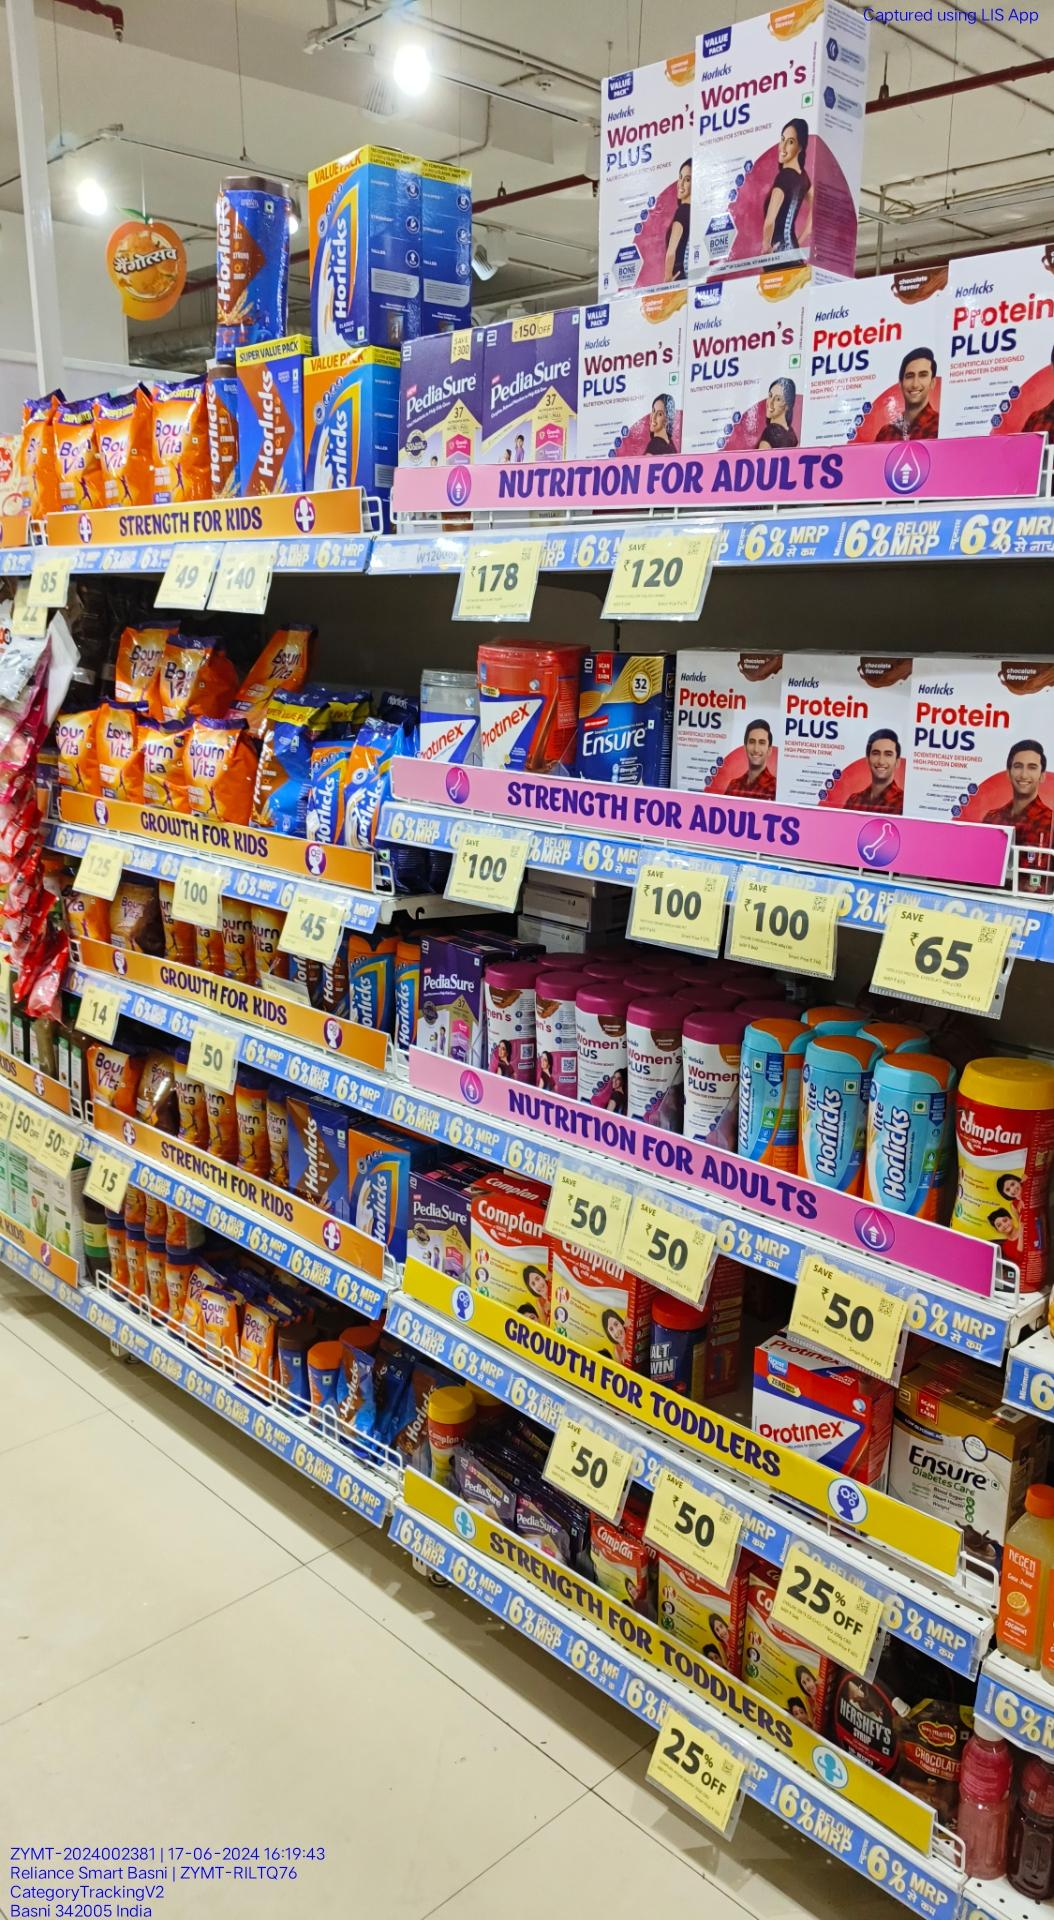BOURN_VITA_1_KG_POUCH: (152, 379, 209, 503), (100, 385, 149, 503)
BOURN_VITA_750_G_POUCH: (187, 719, 247, 822), (136, 714, 186, 810)
COMPLAN_CHOCOLATE_500_GMS_JAR: (954, 1060, 1045, 1280)
ENSURE_VANILLA_400_G_PACK: (576, 651, 661, 780)
HORLICKS_LITE_REGULAR_MALT_500_GM_JAR: (870, 1053, 950, 1216), (802, 1035, 864, 1191), (740, 1020, 800, 1164)
HORLICK_CHOCOLATE_1_KG_JAR: (214, 175, 291, 341)
HORLICK_CHOCOLATE_1_KG_PACK: (239, 344, 299, 496)
